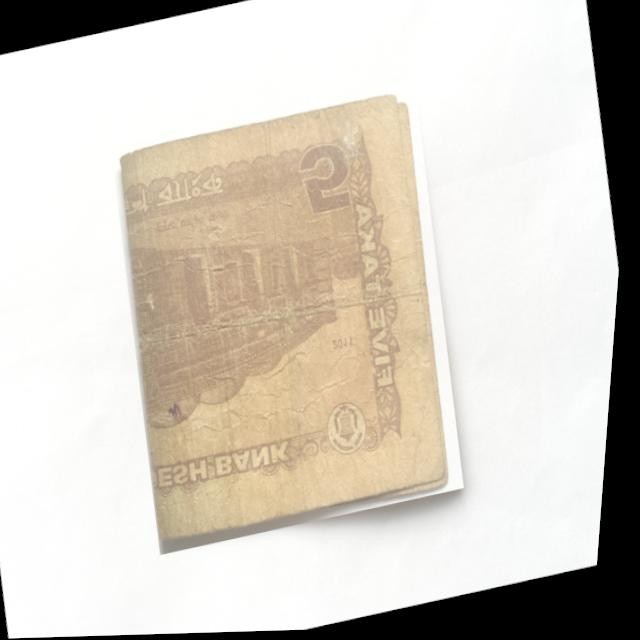Taka: (89, 81, 496, 559)
